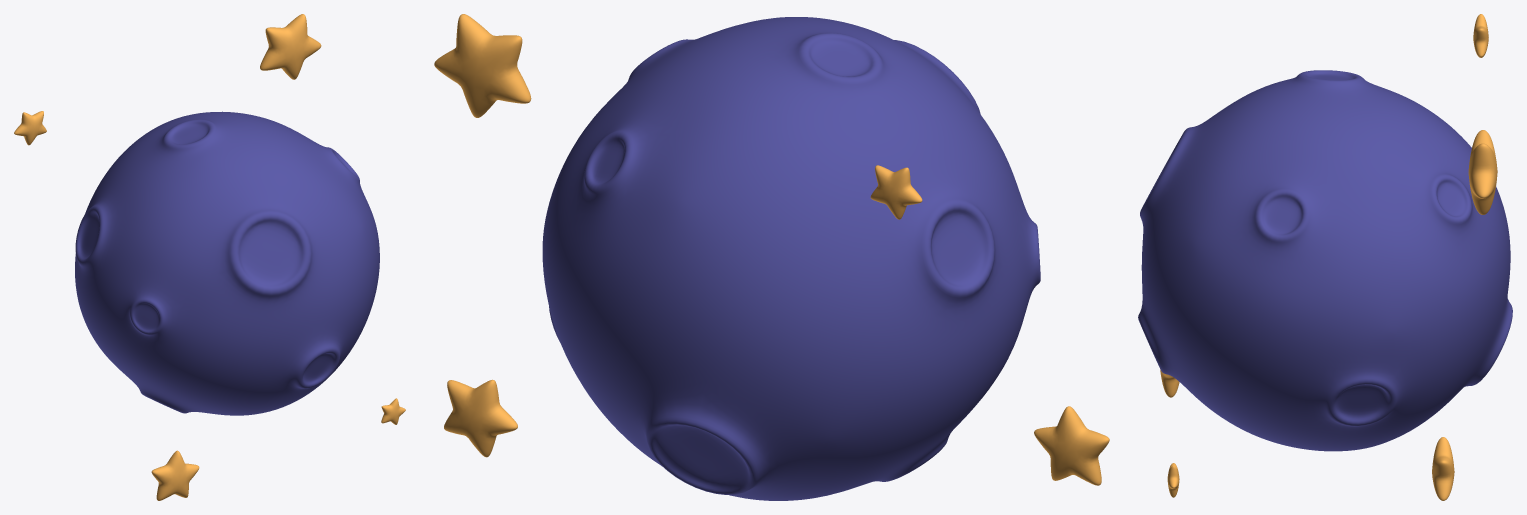
Rendered from clear-night.glb.
3 renders of one model, left to right at view 1: azimuth 30°, elevation 25°; view 2: azimuth 150°, elevation 25°; view 3: azimuth 270°, elevation 25°, orthographic. The views are drawn at different scales.
Visible parts, largest first — view 1: 0002; view 2: 0002; view 3: 0002.
Part boxes in pixels (bbox=[...]): 0002: bbox=[14, 14, 405, 500]; 0002: bbox=[434, 14, 1109, 500]; 0002: bbox=[1138, 14, 1512, 500].
Size of the model in its own units: 2.33 by 2.31 by 1.96.
